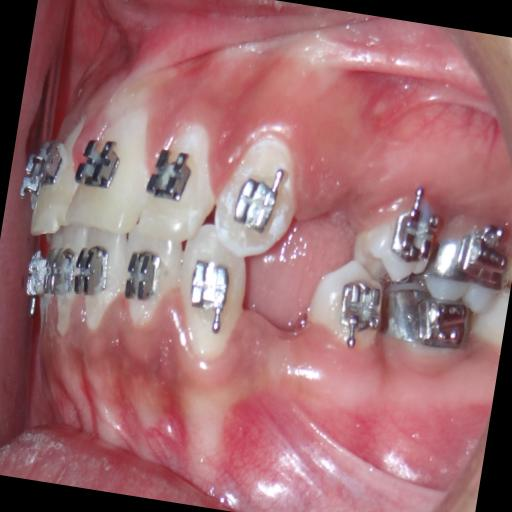correct_brace: (346, 176, 442, 284), (138, 136, 197, 214), (224, 170, 284, 232), (73, 136, 125, 194)
incorrect_brace: (138, 110, 224, 244), (387, 177, 444, 262)
